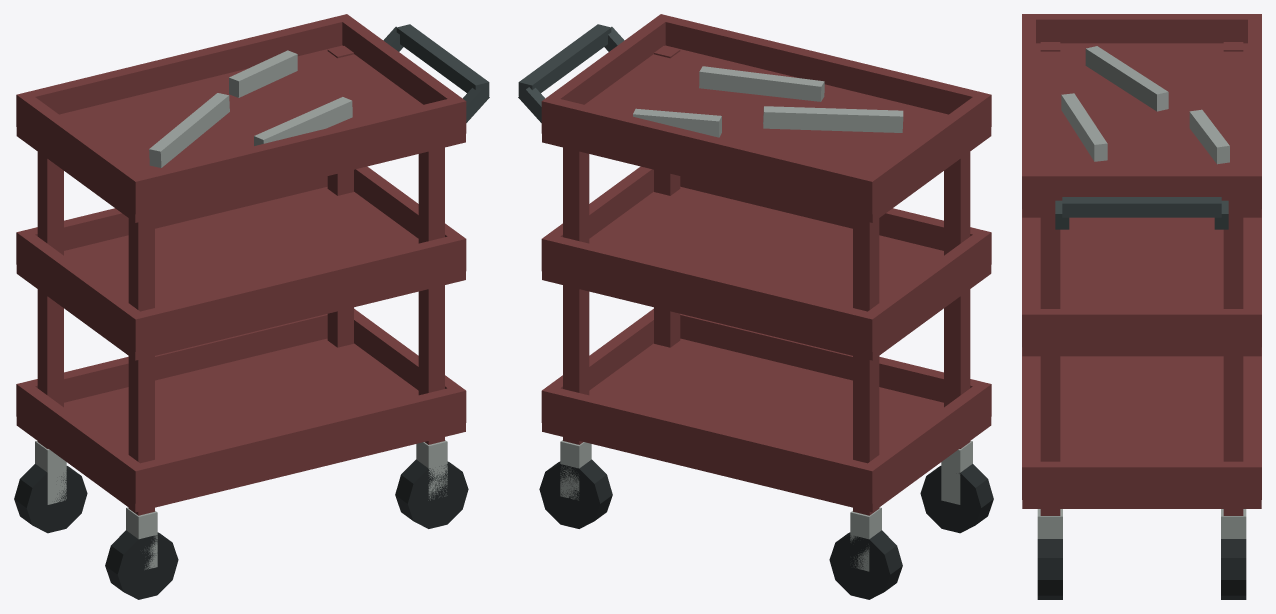
Rendered from Turner_ToolTrolley.fbx.
The picture shows the model from 3 angles, left to right: view 1: azimuth 30°, elevation 25°; view 2: azimuth 150°, elevation 25°; view 3: azimuth 270°, elevation 25°; orthographic projection.
Visible parts, largest first — view 1: Turner_ToolTrolley; view 2: Turner_ToolTrolley; view 3: Turner_ToolTrolley.
Part boxes in pixels (left/top/right/bottom): Turner_ToolTrolley: left=14, top=14, right=489, bottom=599; Turner_ToolTrolley: left=518, top=14, right=993, bottom=599; Turner_ToolTrolley: left=1022, top=14, right=1261, bottom=599.
Size of the model in its own units: 0.794 by 0.8429 by 0.427.
